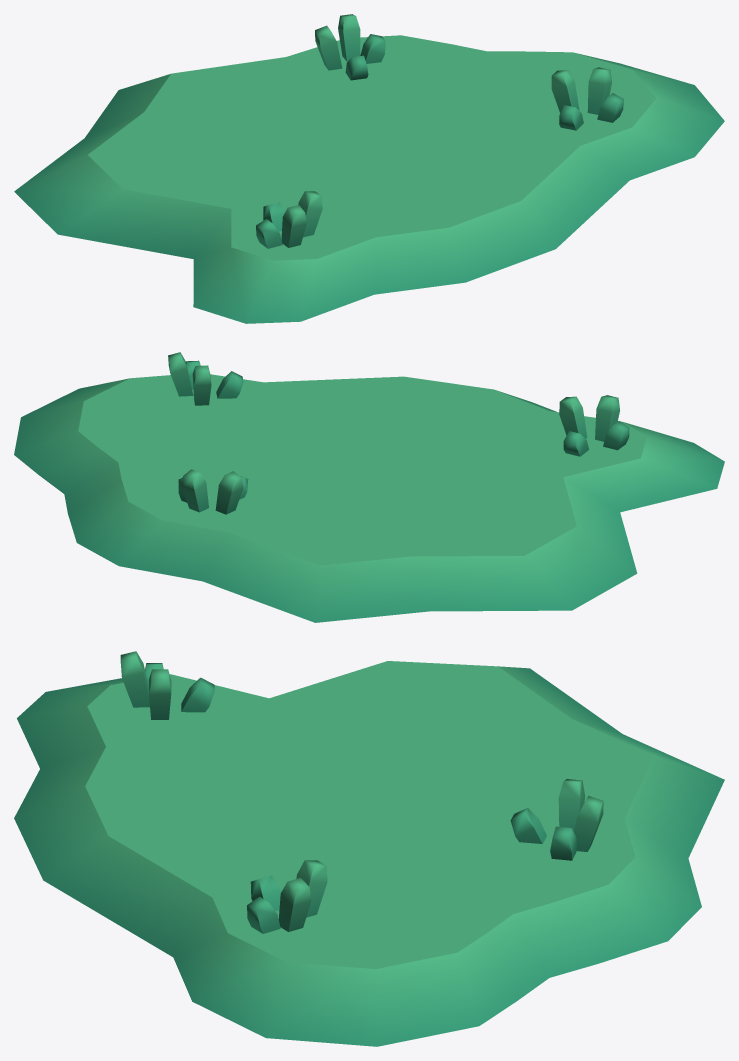
File: patch_grass_foliage.glb
The picture shows the model from 3 angles, top to bottom: view 1: azimuth 30°, elevation 25°; view 2: azimuth 150°, elevation 25°; view 3: azimuth 270°, elevation 25°; orthographic projection. The views are drawn at different scales.
Visible parts, largest first — view 1: patch-grass-foliage; view 2: patch-grass-foliage; view 3: patch-grass-foliage.
Boxes of the visible parts, x1,y1,x2,y2 form: patch-grass-foliage: (14,14,724,323); patch-grass-foliage: (14,352,724,622); patch-grass-foliage: (14,651,724,1046).
Bounding box in the file's own units: 5.27 × 0.5639 × 4.11.
Materials: 1 (1 with a texture image).
